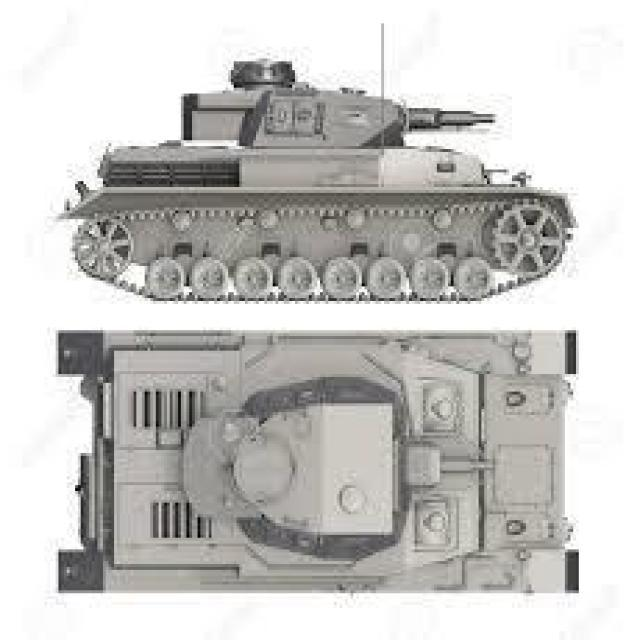MIL_MBT: (39, 313, 618, 617), (21, 23, 611, 316)
